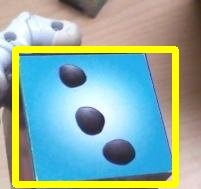Blue3: (15, 49, 175, 184)
